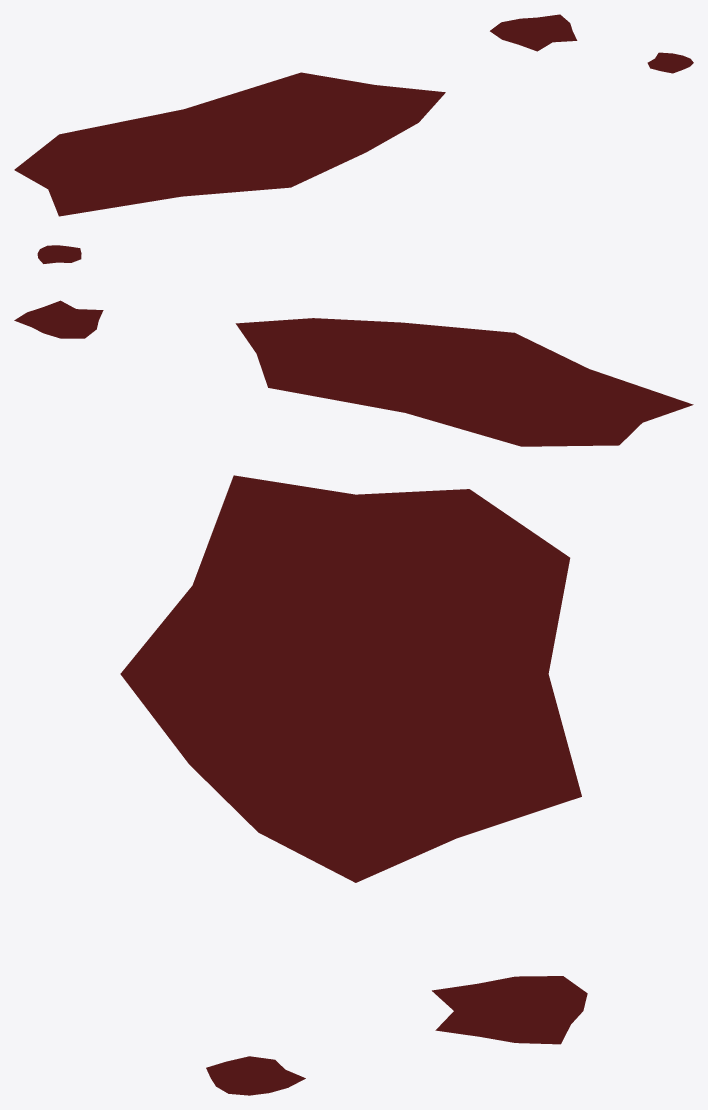
File: blood.glb
3 renders of one model, top to bottom at view 1: azimuth 30°, elevation 25°; view 2: azimuth 150°, elevation 25°; view 3: azimuth 270°, elevation 25°, orthographic. The views are drawn at different scales.
Visible parts, largest first — view 1: blood; view 2: blood; view 3: blood.
Boxes of the visible parts, box(x1,y1,x2,y2) form: blood: box(14, 14, 693, 216); blood: box(14, 245, 693, 446); blood: box(120, 475, 587, 1095).
Size of the model in its own units: 1.38 by 0 by 0.4396.
